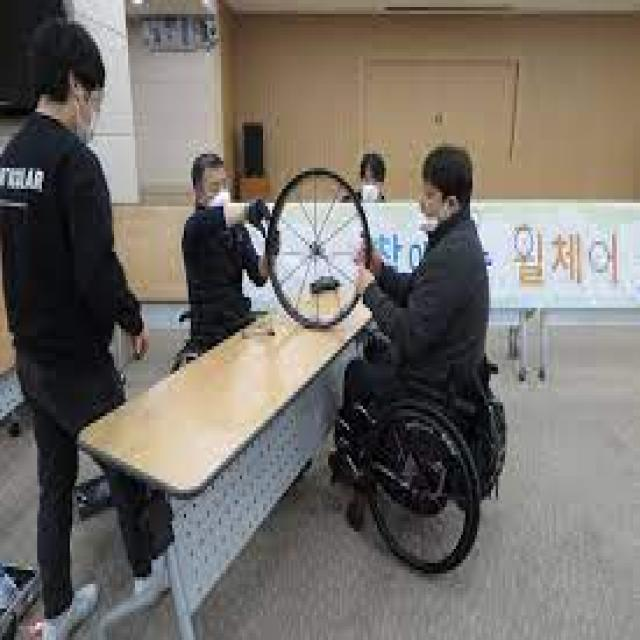wheelchair: (358, 149, 506, 569)
